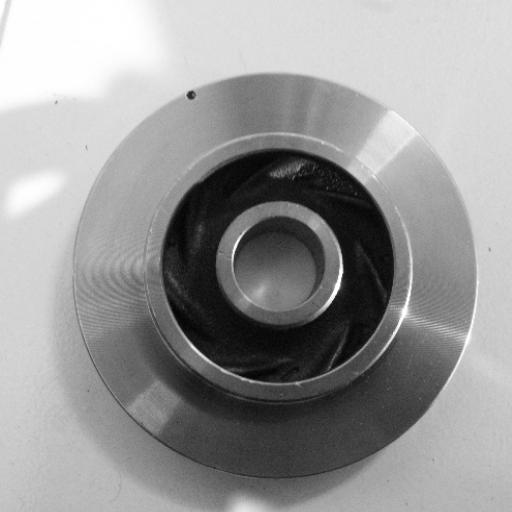pit: (178, 85, 207, 109)
unpolished_casting: (72, 69, 478, 486)
